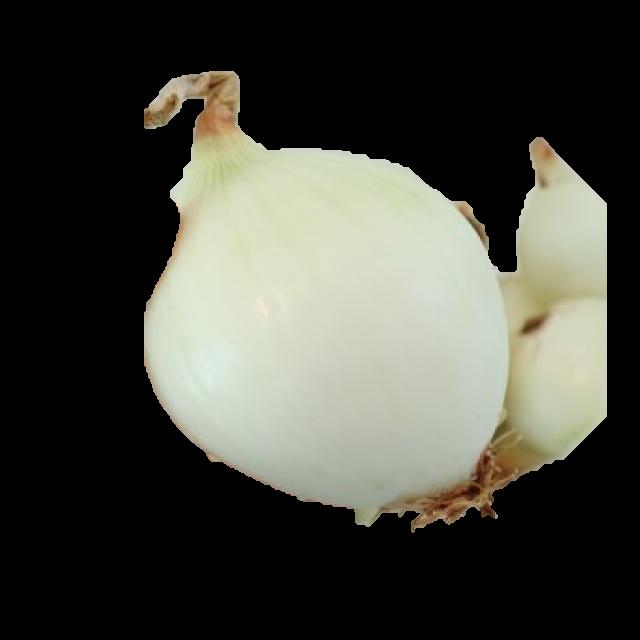Onion: (154, 142, 503, 494)
